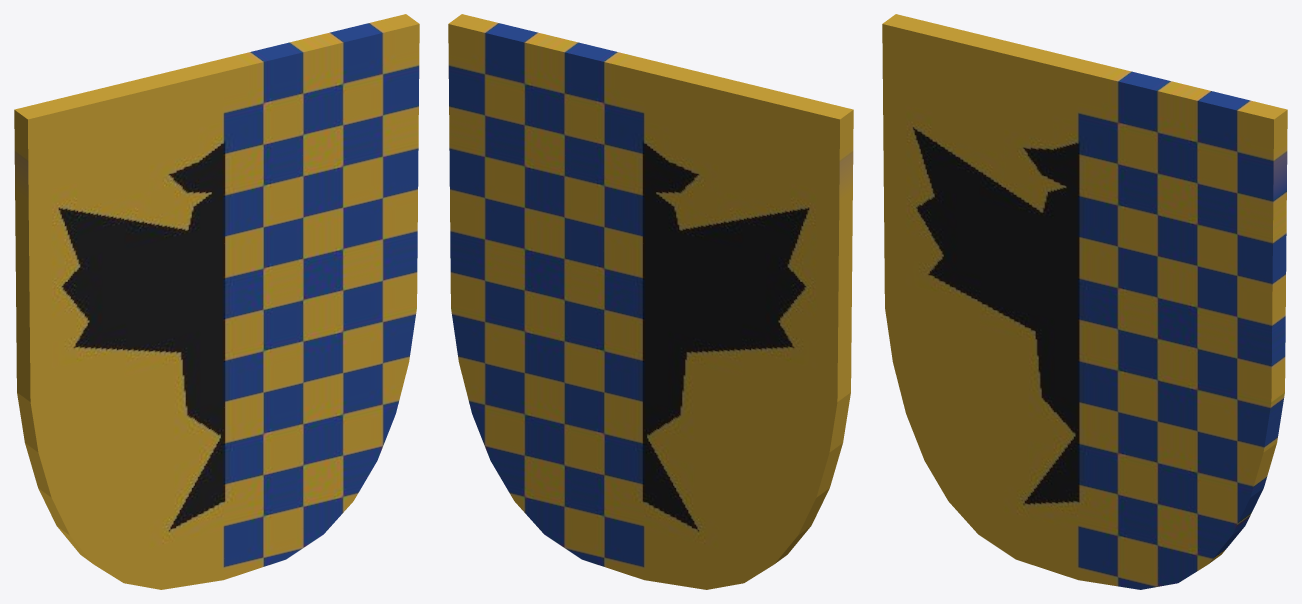
File: stemma-uberti.glb
The picture shows the model from 3 angles, left to right: view 1: azimuth 30°, elevation 25°; view 2: azimuth 150°, elevation 25°; view 3: azimuth 330°, elevation 25°; orthographic projection.
Visible parts, largest first — view 1: stemma-uberti; view 2: stemma-uberti; view 3: stemma-uberti.
Part boxes in pixels (x1,y1,x2,y2): stemma-uberti: (14,14,419,589); stemma-uberti: (448,14,853,589); stemma-uberti: (882,14,1287,589).
Size of the model in its own units: 0.5 by 0.62 by 0.03.
Materials: 1 (1 with a texture image).
